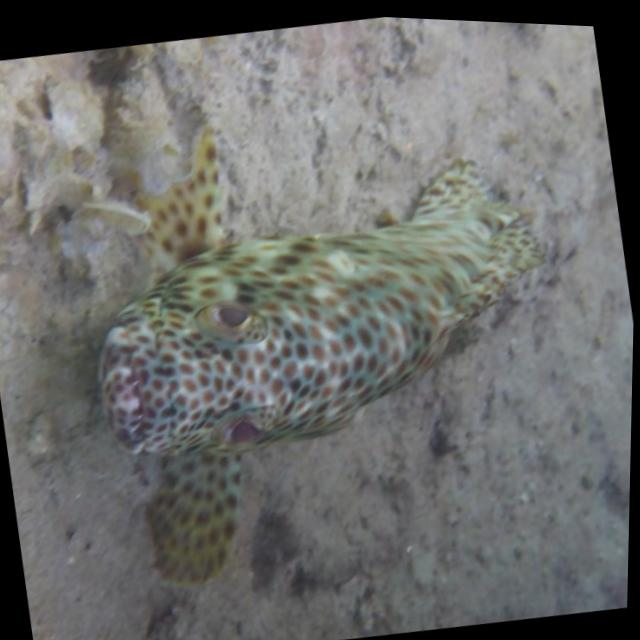Groupers: (62, 79, 593, 615)
